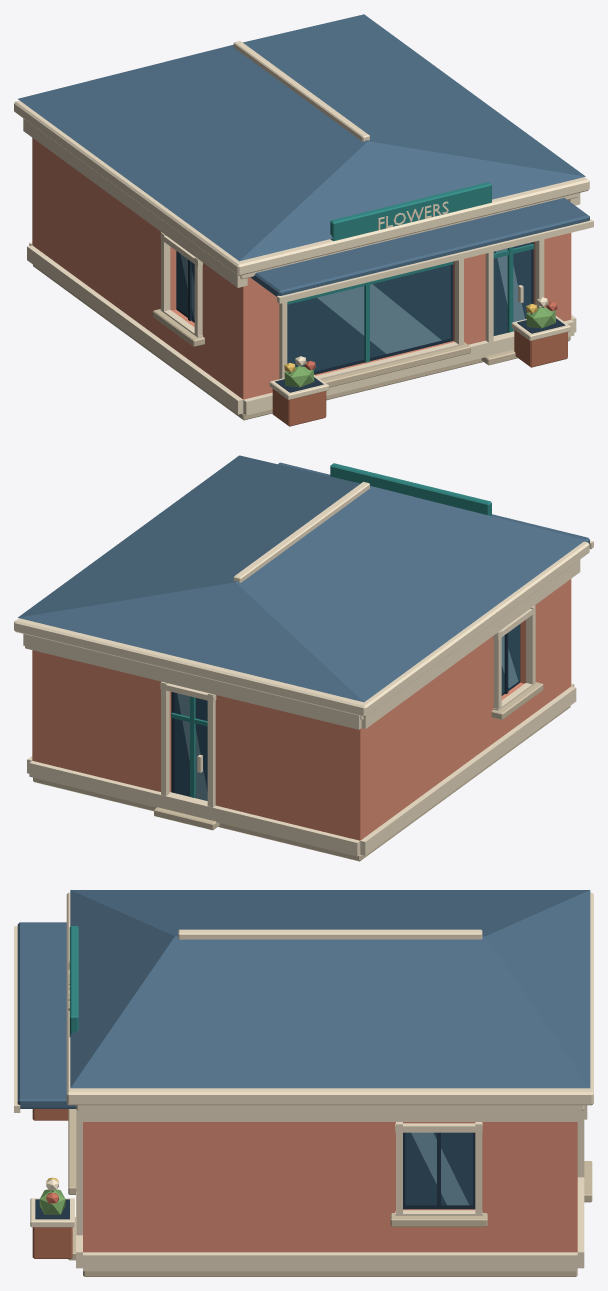
File: flower_shop.glb
The picture shows the model from 3 angles, top to bottom: view 1: azimuth 30°, elevation 25°; view 2: azimuth 150°, elevation 25°; view 3: azimuth 270°, elevation 25°; orthographic projection. The views are drawn at different scales.
Parts seen in each view (by area): view 1: FlowerShop_StaticMesh; view 2: FlowerShop_StaticMesh; view 3: FlowerShop_StaticMesh.
Part boxes in pixels (bbox=[...]): FlowerShop_StaticMesh: bbox=[14, 14, 593, 426]; FlowerShop_StaticMesh: bbox=[14, 455, 593, 861]; FlowerShop_StaticMesh: bbox=[14, 890, 593, 1276].
Bounding box in the file's own units: 7.52 × 4.39 × 9.15.
